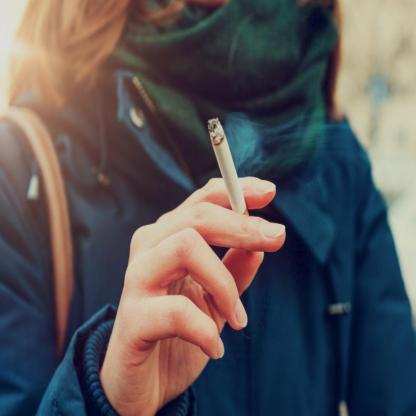cigarette: (206, 118, 248, 219)
smoke: (226, 110, 257, 169)
